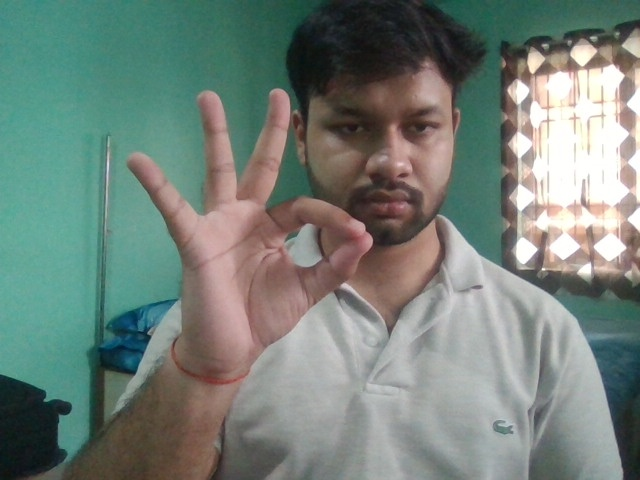Ok: (124, 87, 374, 389)
